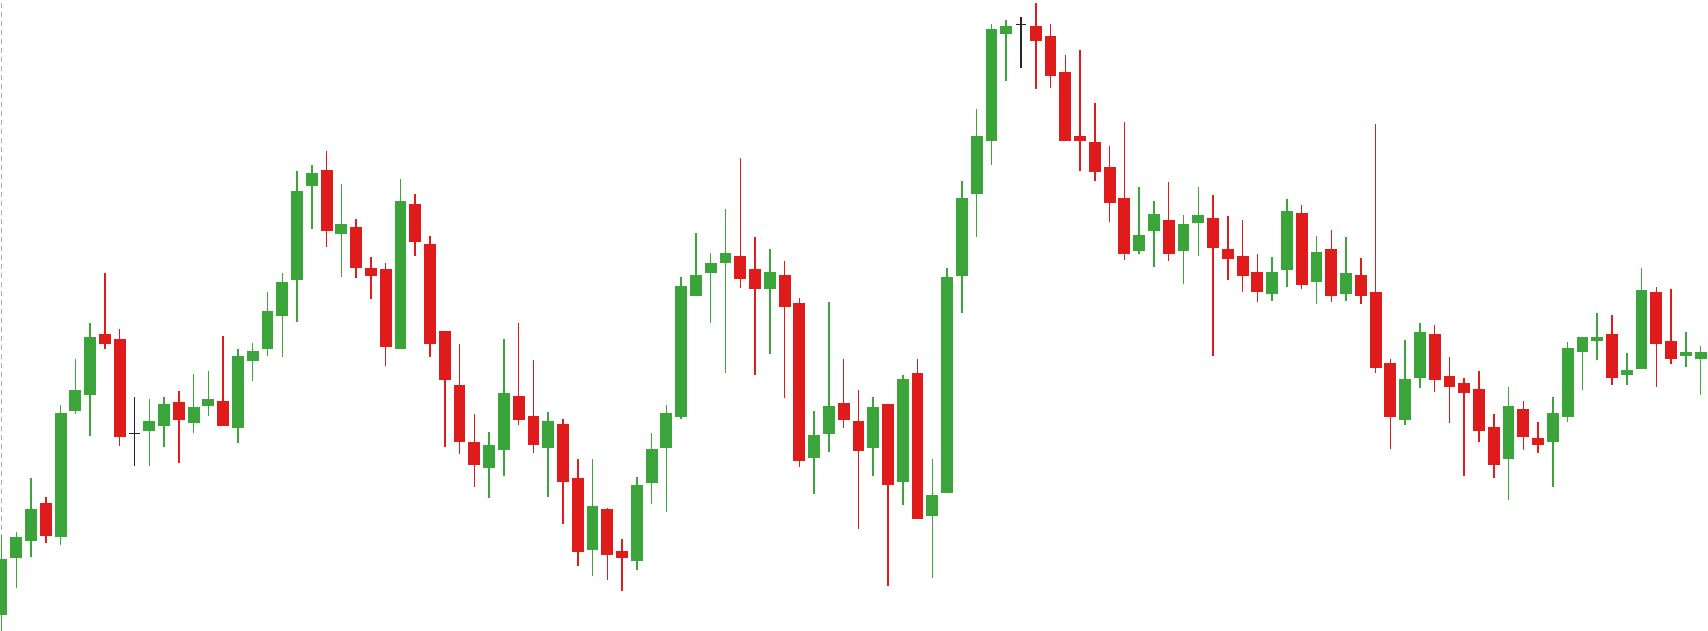buy: (1383, 353, 1516, 514)
